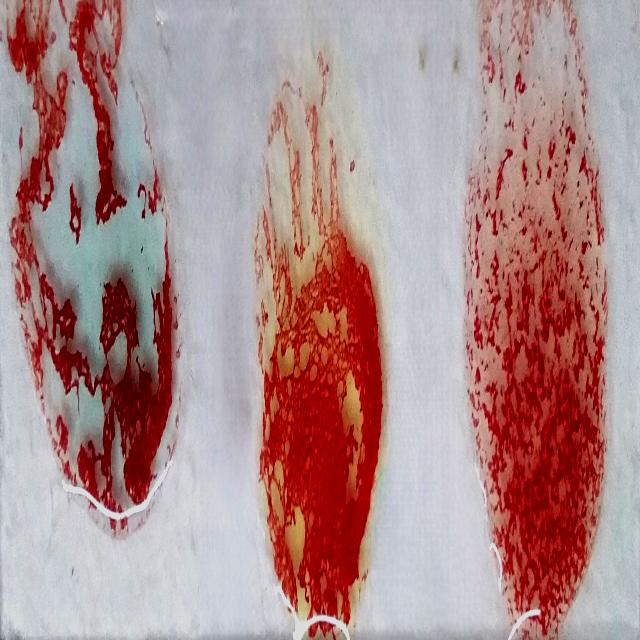A: (10, 1, 164, 530)
B: (263, 72, 377, 632)
D: (476, 1, 602, 627)
